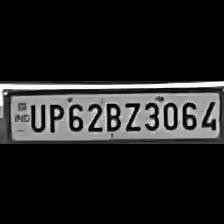0: (160, 97, 180, 129)
2: (84, 98, 104, 132)
3: (140, 97, 160, 130)
4: (198, 96, 218, 128)
6: (64, 99, 84, 131), (178, 97, 198, 129)
B: (102, 97, 122, 130)
P: (44, 100, 64, 132)
U: (27, 99, 46, 131)
Z: (120, 97, 140, 131)
